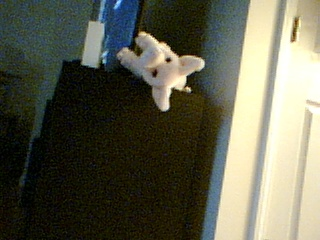piggy: (117, 29, 206, 114)
